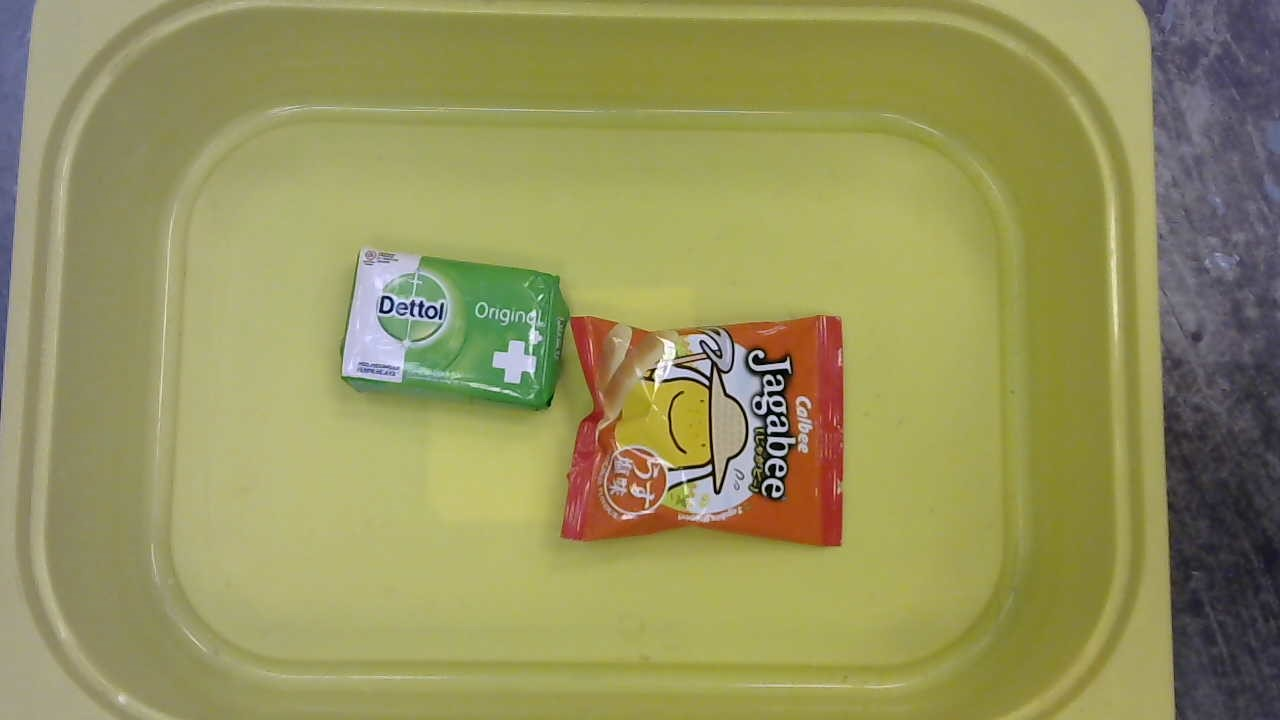Dettol: (336, 245, 569, 418)
JagabeeFarmer: (569, 315, 851, 548)
